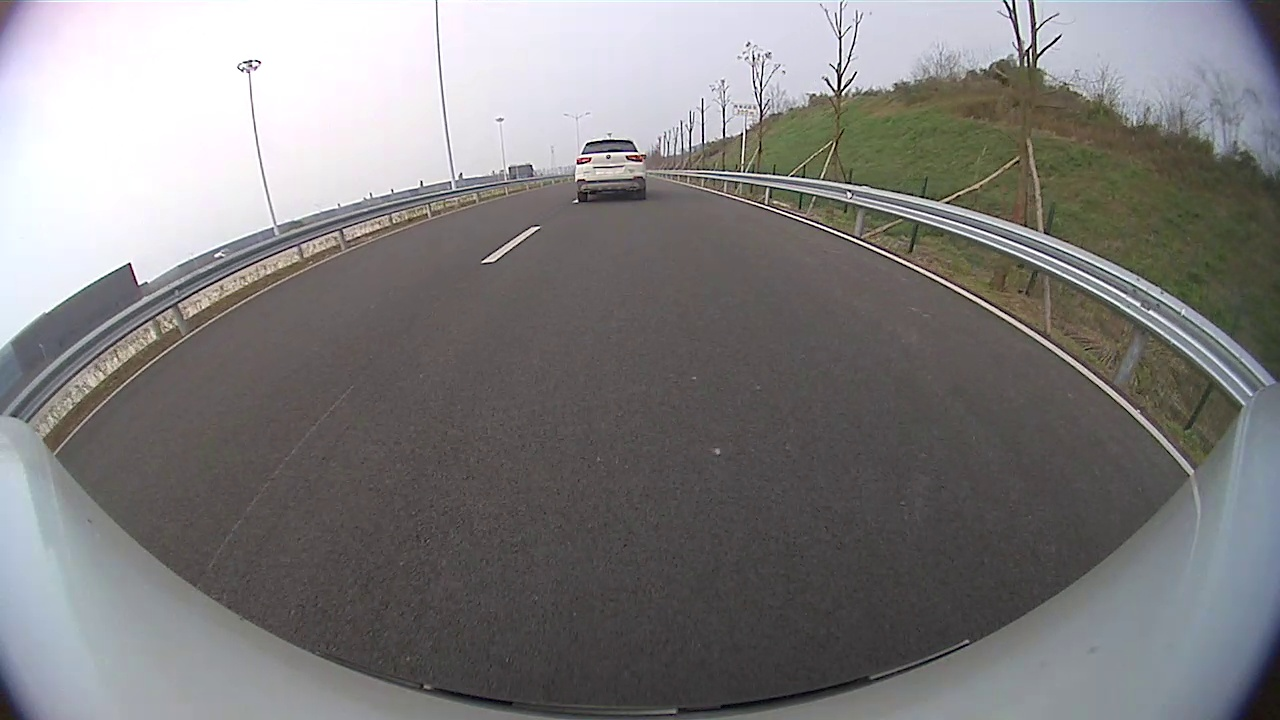car: (573, 137, 649, 206)
